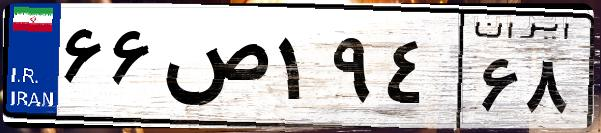1: (270, 28, 330, 110)
4: (385, 28, 445, 110)
6: (57, 26, 110, 100), (475, 38, 525, 113), (110, 28, 158, 98)
8: (525, 38, 570, 115)
9: (330, 28, 385, 110)
ص: (158, 20, 270, 120)
